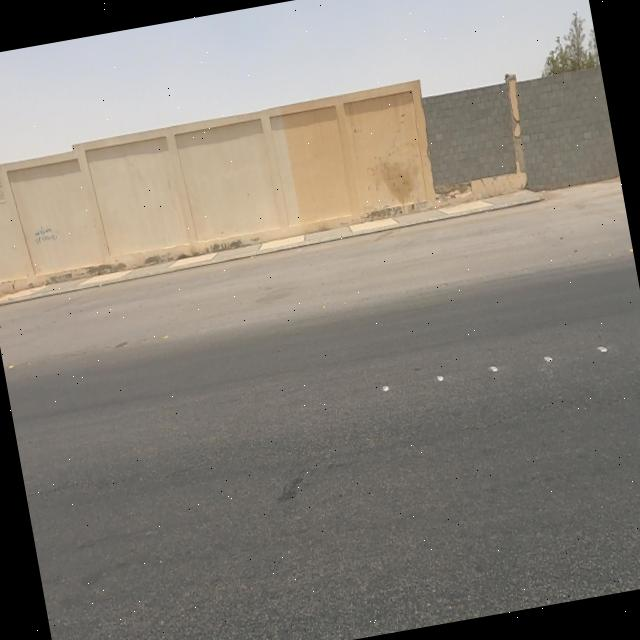Graffiti: (31, 221, 60, 250)
